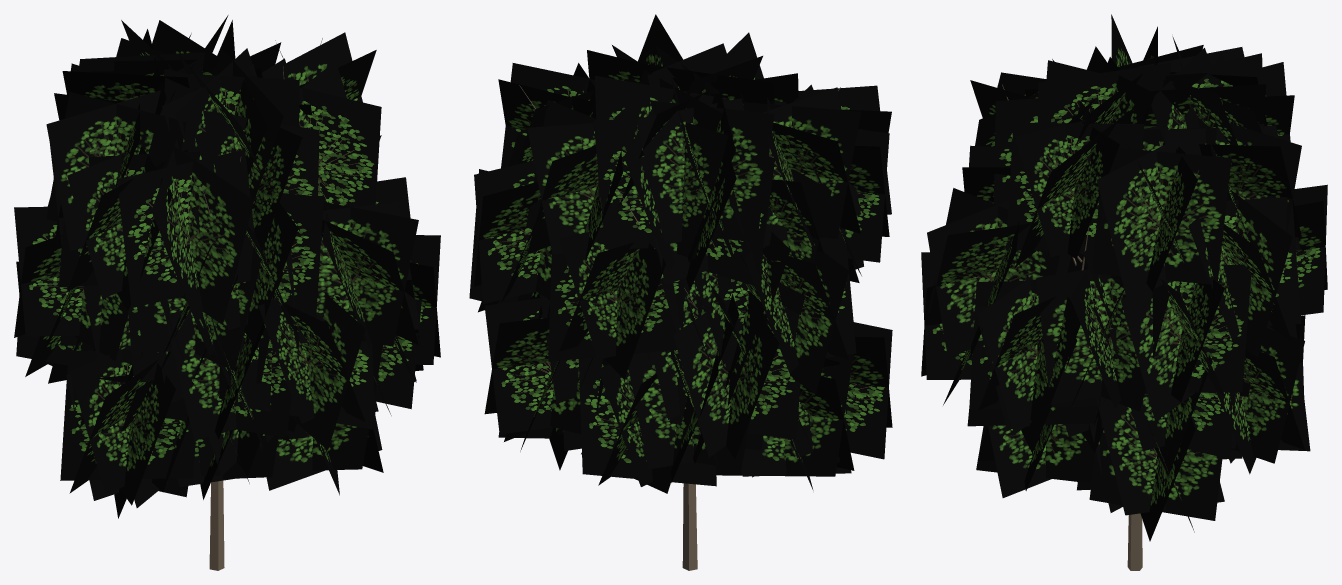
File: Beech_0_LOD1.glb
The picture shows the model from 3 angles, left to right: view 1: azimuth 30°, elevation 25°; view 2: azimuth 150°, elevation 25°; view 3: azimuth 270°, elevation 25°; orthographic projection.
Visible parts, largest first — view 1: Beech_0_LOD1; view 2: Beech_0_LOD1; view 3: Beech_0_LOD1.
Boxes of the visible parts, left/top/right/bottom form: Beech_0_LOD1: left=14, top=15, right=440, bottom=570; Beech_0_LOD1: left=469, top=14, right=892, bottom=570; Beech_0_LOD1: left=921, top=14, right=1327, bottom=570.
Size of the model in its own units: 14.63 by 19.62 by 14.41.
Materials: 2 (1 with a texture image).
